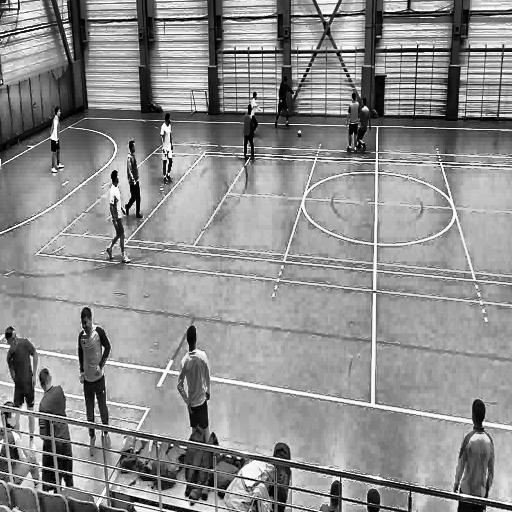ball: (296, 128, 305, 138)
player: (75, 308, 115, 456), (452, 378, 496, 512), (173, 320, 214, 442), (4, 323, 38, 442), (105, 169, 133, 265), (124, 138, 144, 222), (49, 104, 67, 176), (273, 75, 295, 130), (160, 111, 175, 186), (345, 88, 360, 156), (356, 96, 372, 159), (243, 105, 256, 161), (250, 91, 260, 136)
